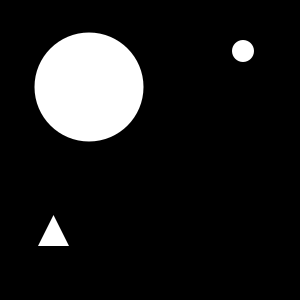rectangle: (35, 32, 144, 142), (232, 40, 254, 62)
triangle: (38, 215, 69, 246)
